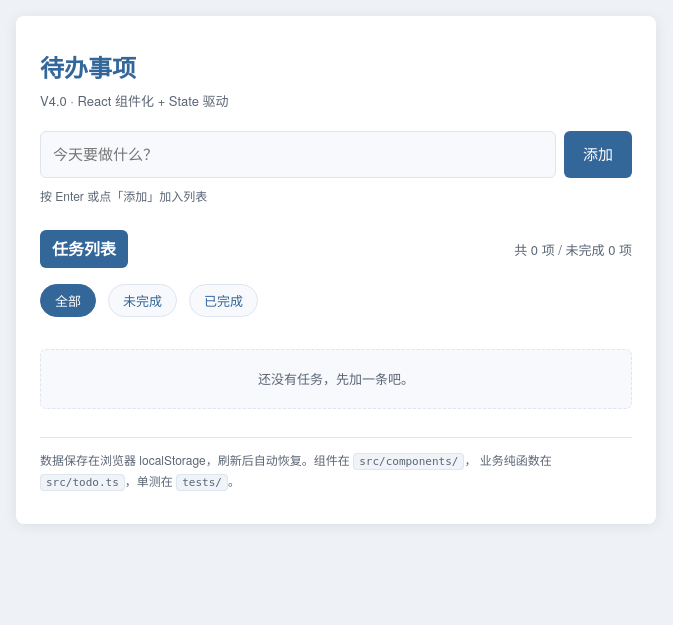
Test: 轨道 B：State 驱动的 UI 行为 › 切换完成：勾选后 is-done 生效，只有这一条变
The width and height of the screenshot is (673, 625).
Step 1. Type "任务A" into the field named "新任务内容" → (298, 154), box top-left (40, 131), bottom-right (556, 178)
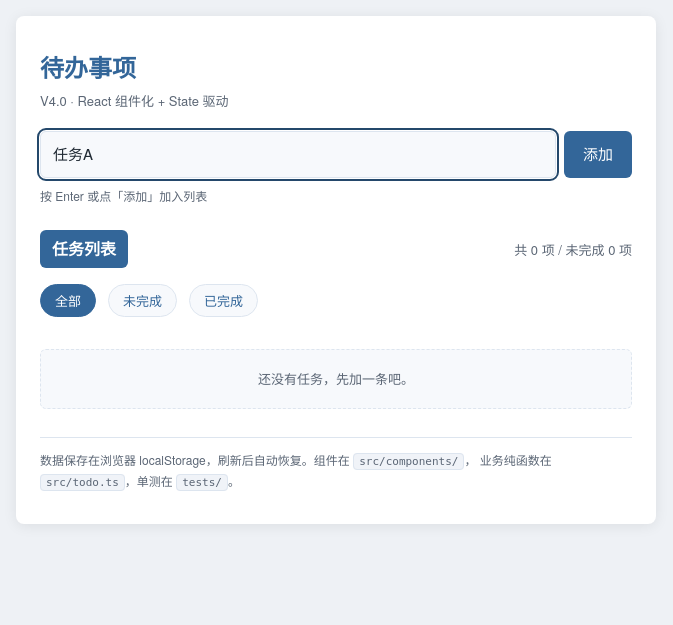
Step 2. Click the button "添加" → (598, 154), box top-left (564, 131), bottom-right (632, 178)
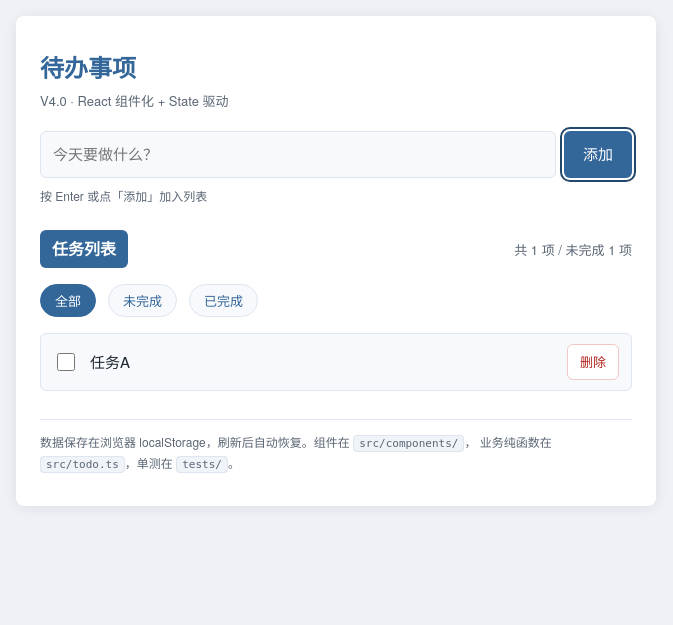
Step 3. Type "任务B" into the field named "新任务内容" → (298, 154), box top-left (40, 131), bottom-right (556, 178)
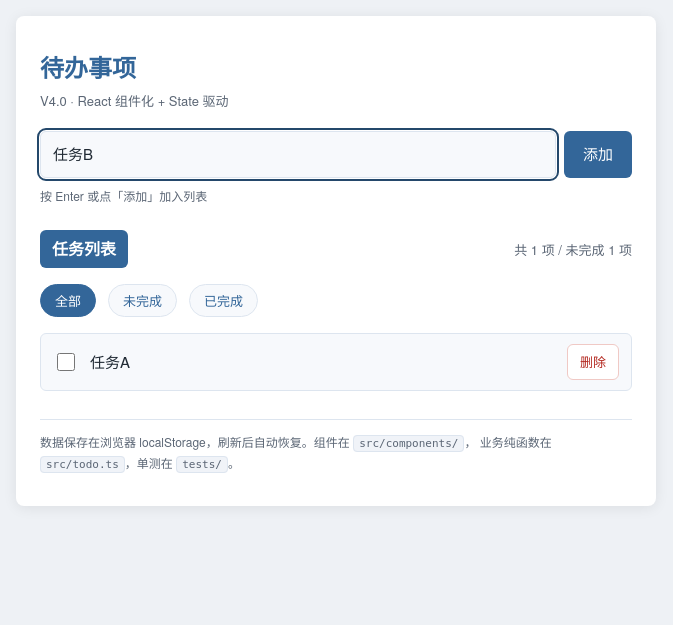
Step 4. Click the button "添加" → (598, 154), box top-left (564, 131), bottom-right (632, 178)
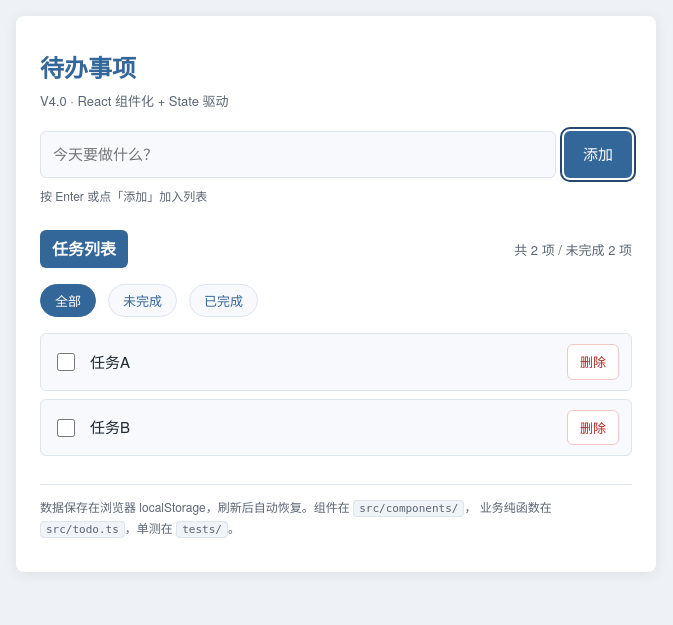
Step 5. Click the checkbox named "任务A" → (66, 362), box top-left (57, 353), bottom-right (75, 371)
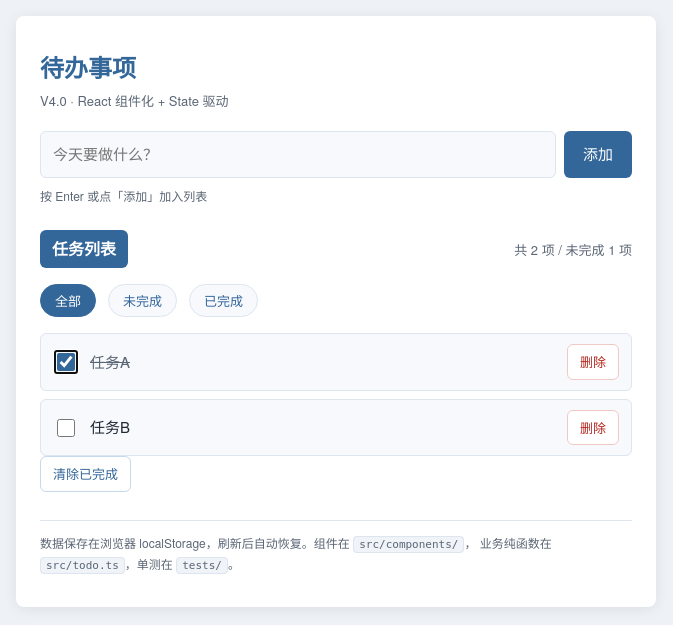
Now the list item with class "todo-item" has class "is-done", box top-left (40, 333), bottom-right (632, 391)
